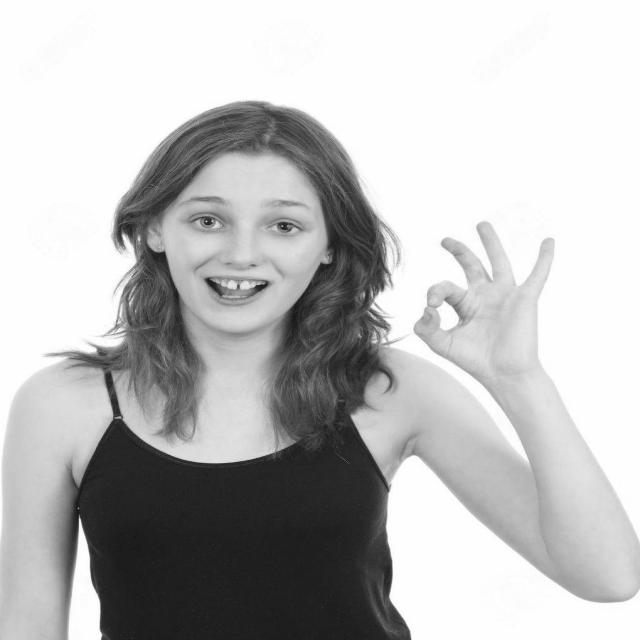perfect: (406, 213, 564, 382)
